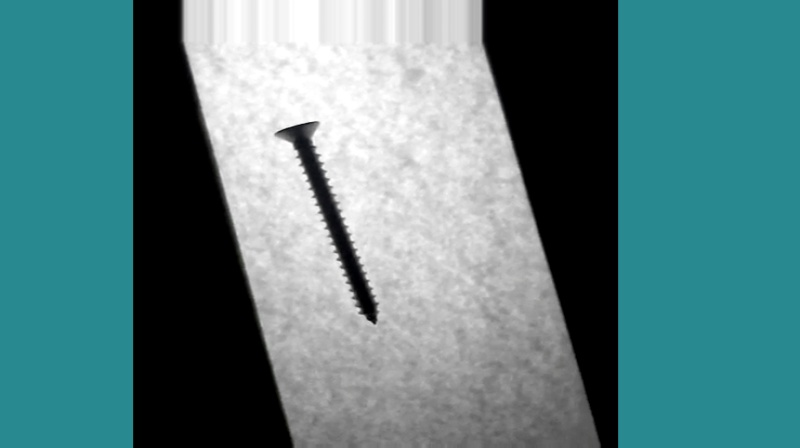S002: (272, 116, 381, 327)
